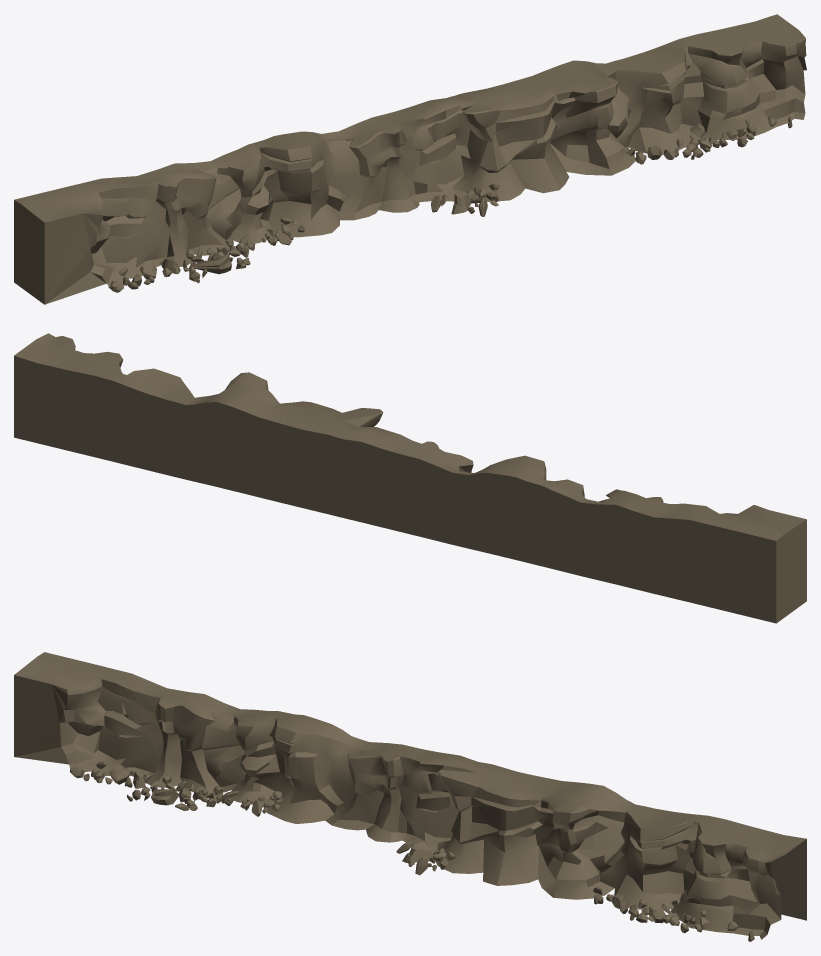
File: dixing1.FBX
3 views of the same model, one above another, from view 1: azimuth 30°, elevation 25°; view 2: azimuth 150°, elevation 25°; view 3: azimuth 330°, elevation 25° (orthographic).
Parts seen in each view (by area): view 1: Cliff; view 2: Cliff; view 3: Cliff.
Boxes of the visible parts, x1,y1,x2,y2 form: Cliff: (14,14,806,304); Cliff: (14,333,806,623); Cliff: (14,652,806,941).
Bounding box in the file's own units: 103 × 11.9 × 11.63.
